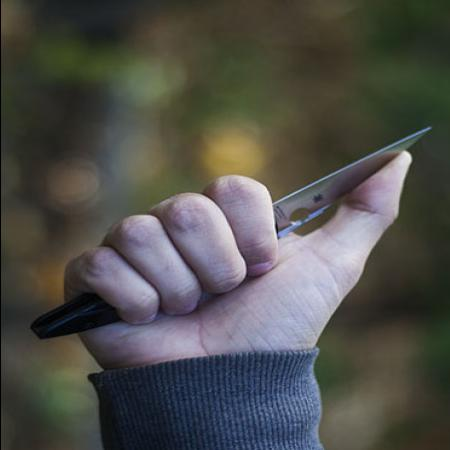long weapon: (161, 115, 443, 318)
